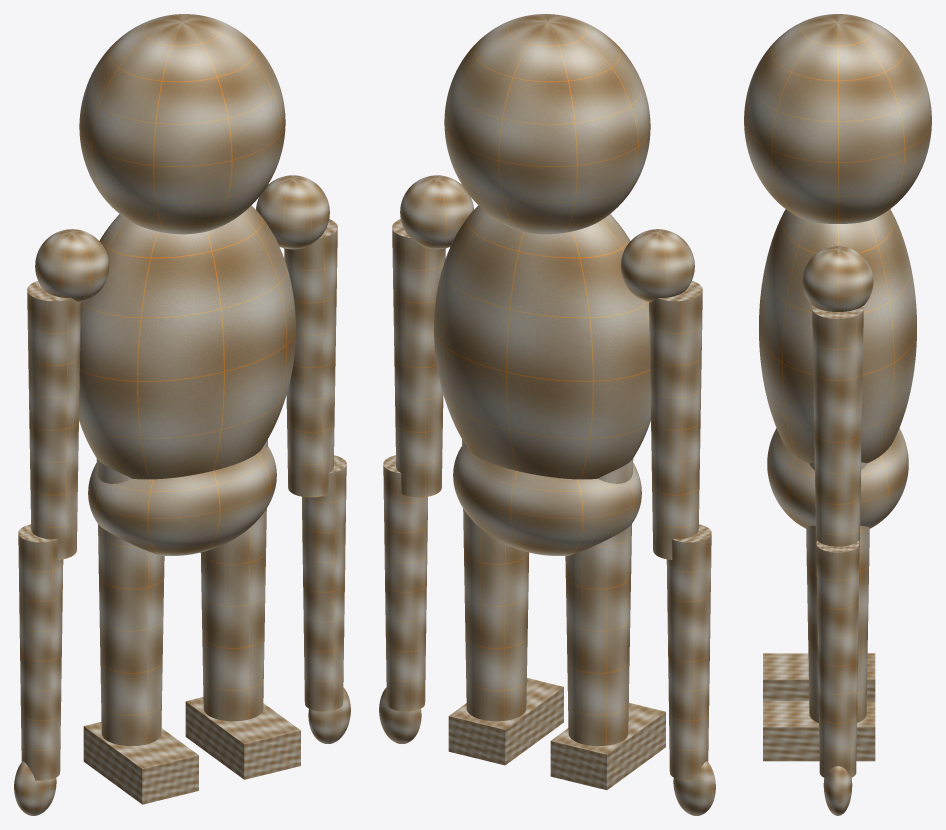
The model's file is 03-kin.glb.
The picture shows the model from 3 angles, left to right: view 1: azimuth 30°, elevation 25°; view 2: azimuth 150°, elevation 25°; view 3: azimuth 270°, elevation 25°; orthographic projection. The views are drawn at different scales.
Parts seen in each view (by area): view 1: ansel9; view 2: ansel9; view 3: ansel9.
Boxes of the visible parts, x1=… form: ansel9: x1=14, y1=14, x2=350, y2=815; ansel9: x1=379, y1=14, x2=715, y2=815; ansel9: x1=744, y1=14, x2=931, y2=815.
Bounding box in the file's own units: 0.8855 × 1.92 × 0.4513.
1 material, 1 textured.
